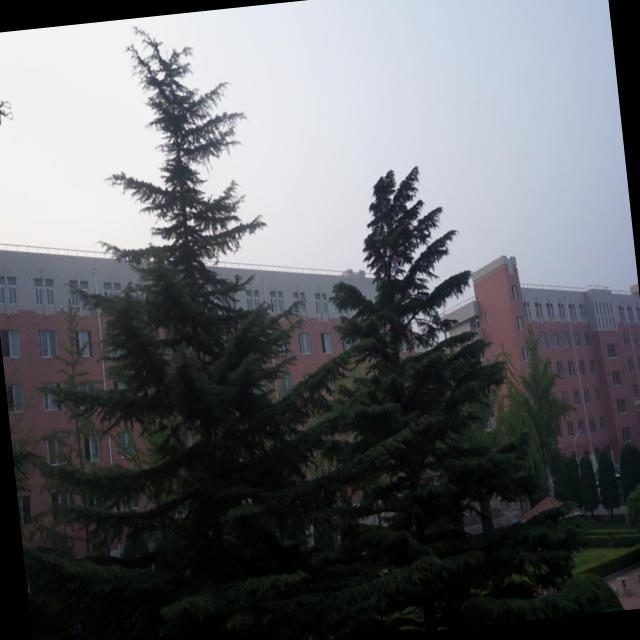drone: (0, 81, 16, 133)
